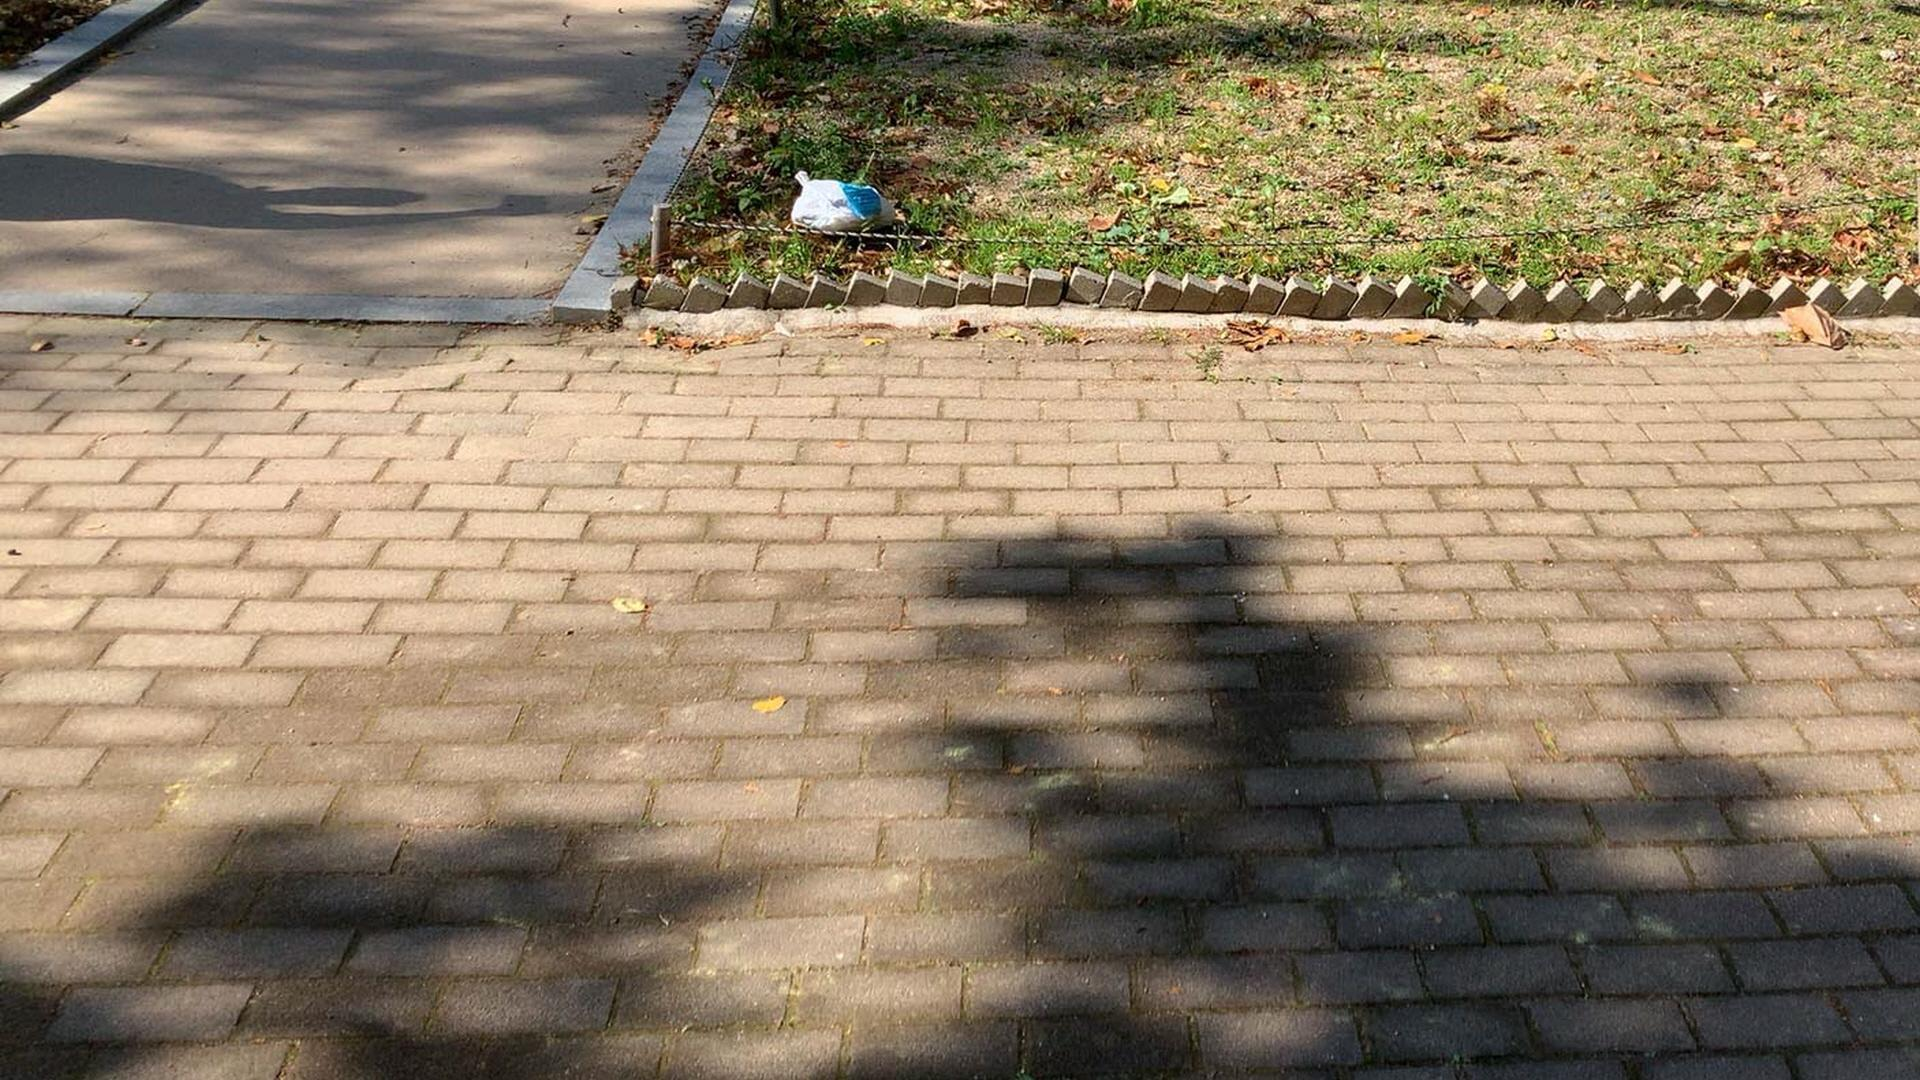white_bag: (785, 166, 913, 235)
